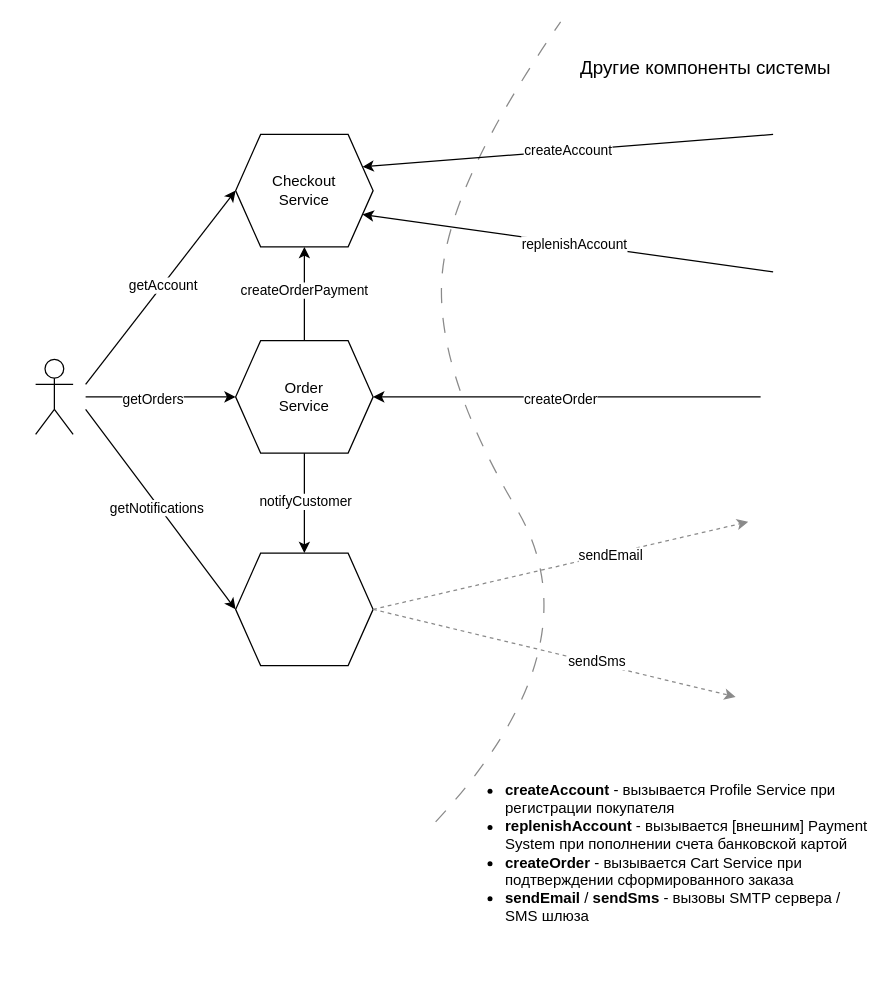
Image size: 895x1006. Some labels were removed from this diagram. The box of each missing label's shape, as (x1, y1, x2, y2) in pixels:
Customer: (34, 358, 73, 434)
Notification Service: (234, 552, 373, 666)
